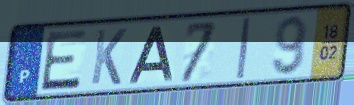7: (180, 19, 220, 84)
9: (270, 14, 310, 77)
A: (127, 25, 176, 85)
E: (38, 28, 90, 94)
I: (235, 16, 253, 81)
K: (89, 27, 129, 87)
